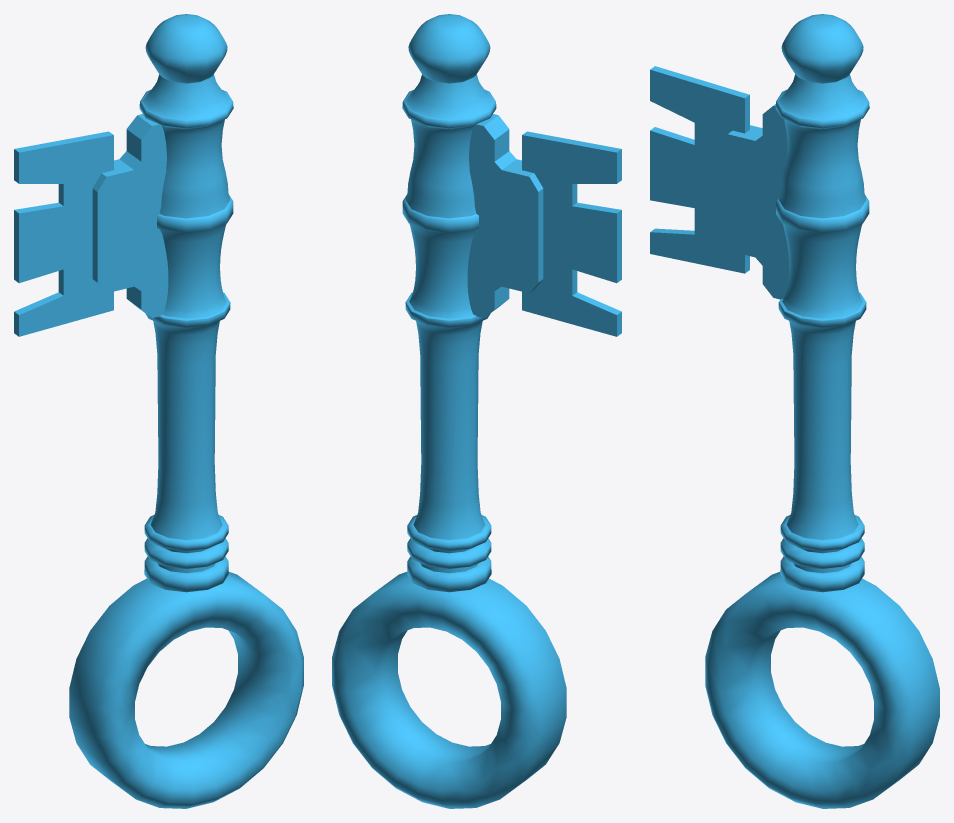
File: key.fbx
3 views of the same model, side by side, from view 1: azimuth 30°, elevation 25°; view 2: azimuth 150°, elevation 25°; view 3: azimuth 330°, elevation 25° (orthographic).
Parts seen in each view (by area): view 1: key; view 2: key; view 3: key.
Boxes of the visible parts, <box> form: key: <box>14,14,303,808</box>; key: <box>332,14,621,808</box>; key: <box>650,14,939,808</box>.
Bounding box in the file's own units: 0.521 × 1.41 × 0.155.
